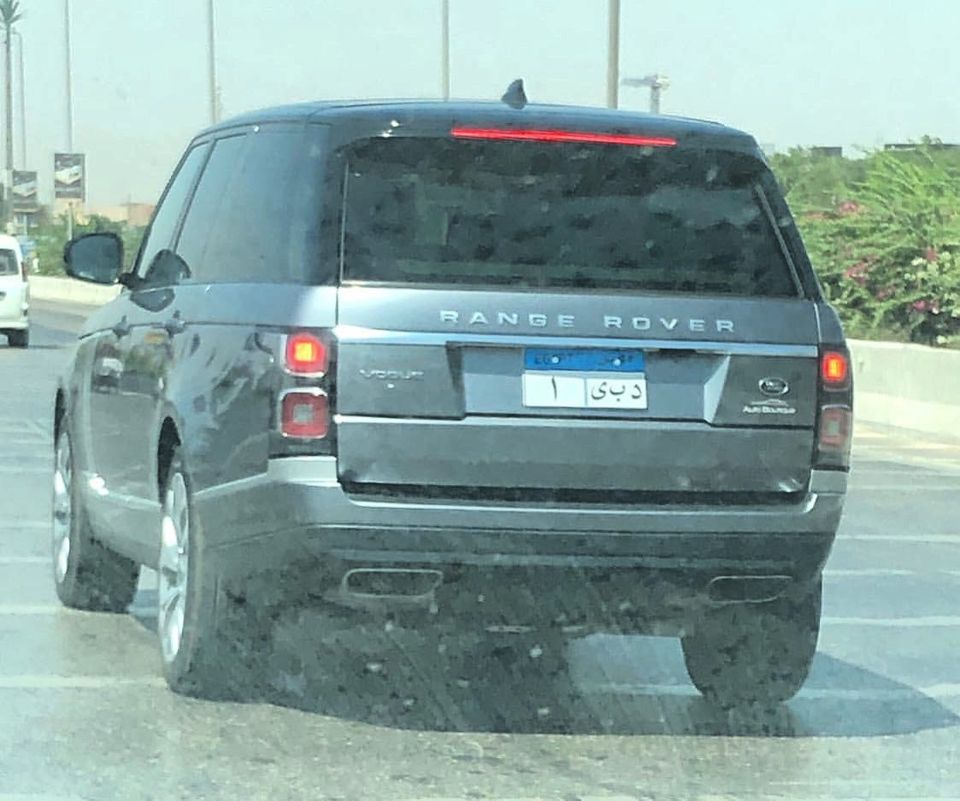carpl: (522, 363, 651, 406)
